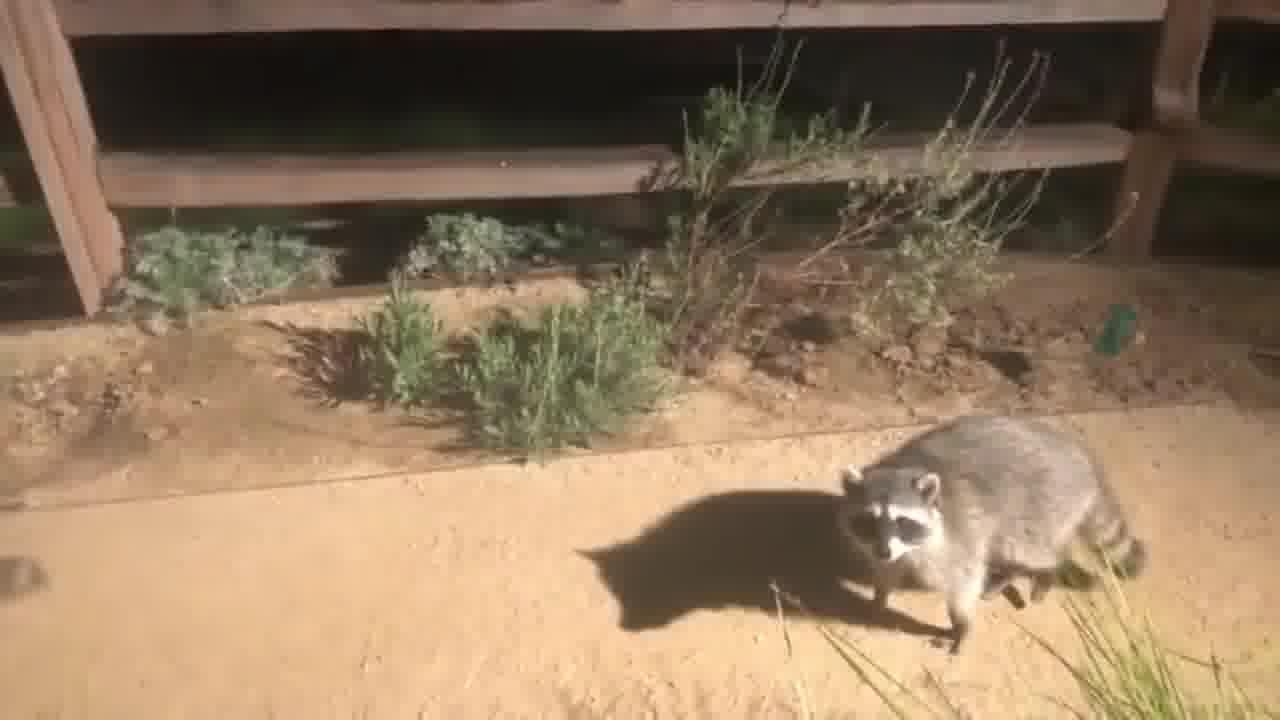raccoon: (838, 414, 1158, 650), (0, 548, 56, 611)
